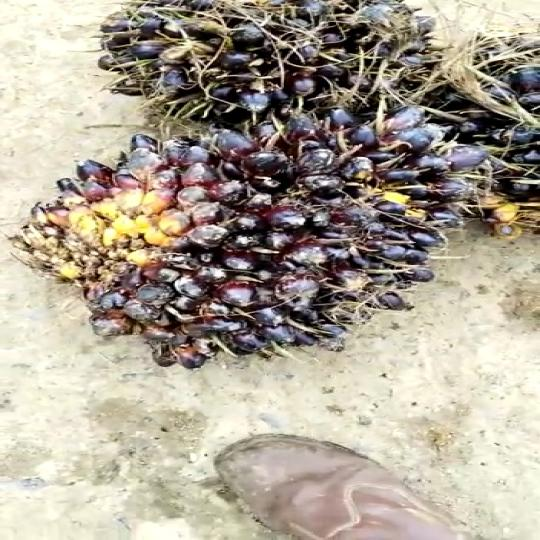mentah: (0, 118, 526, 370), (75, 1, 440, 127)
